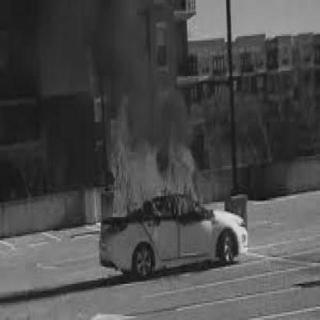Fire: (104, 97, 212, 227)
Smoke: (0, 0, 191, 114)
